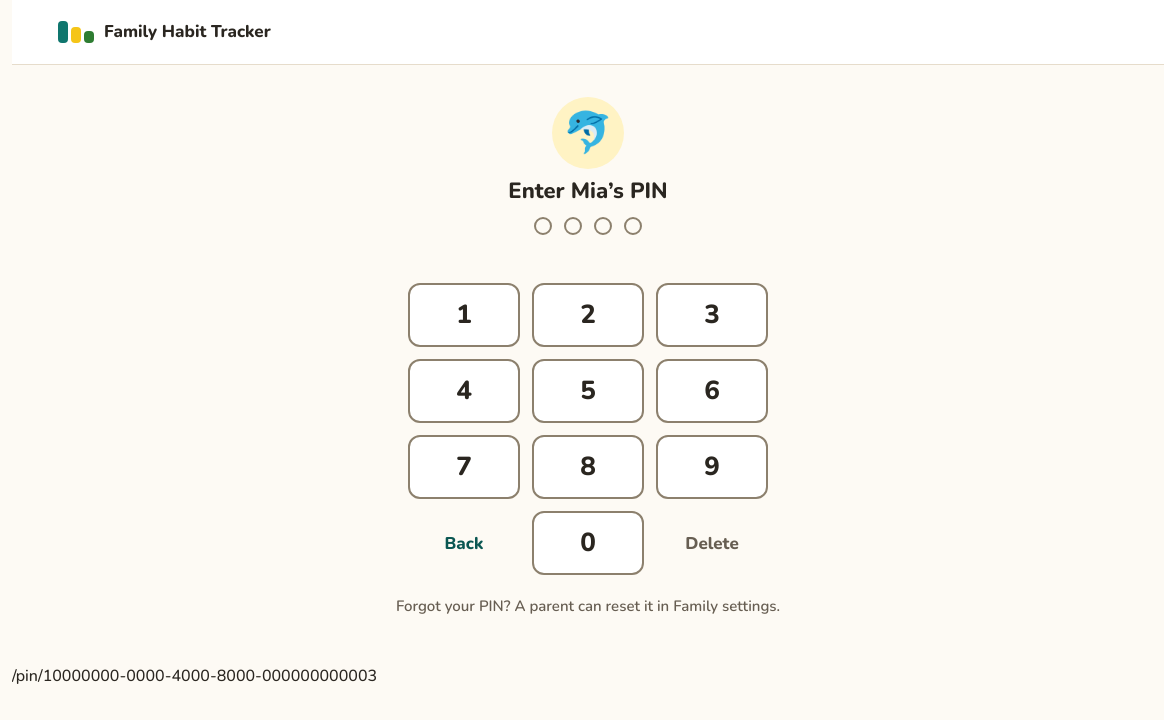
Test: REQ-003 PIN pad › a 401 MemberPIN clears the pad and says "Not quite — have another go"
Check: the heading "Enter Mia’s PIN" is shown, box left=508, top=177, right=668, bottom=205
Click the button "9" at (712, 467), box left=656, top=435, right=768, bottom=499
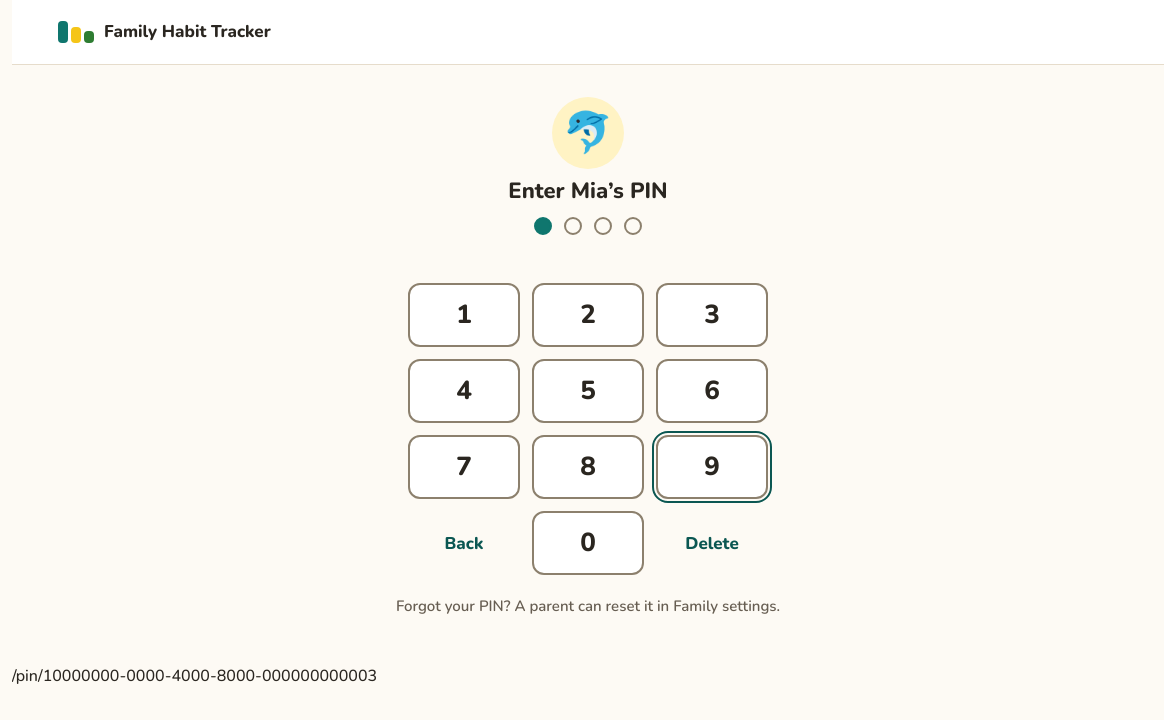
Click the button "9" at (712, 467), box left=656, top=435, right=768, bottom=499
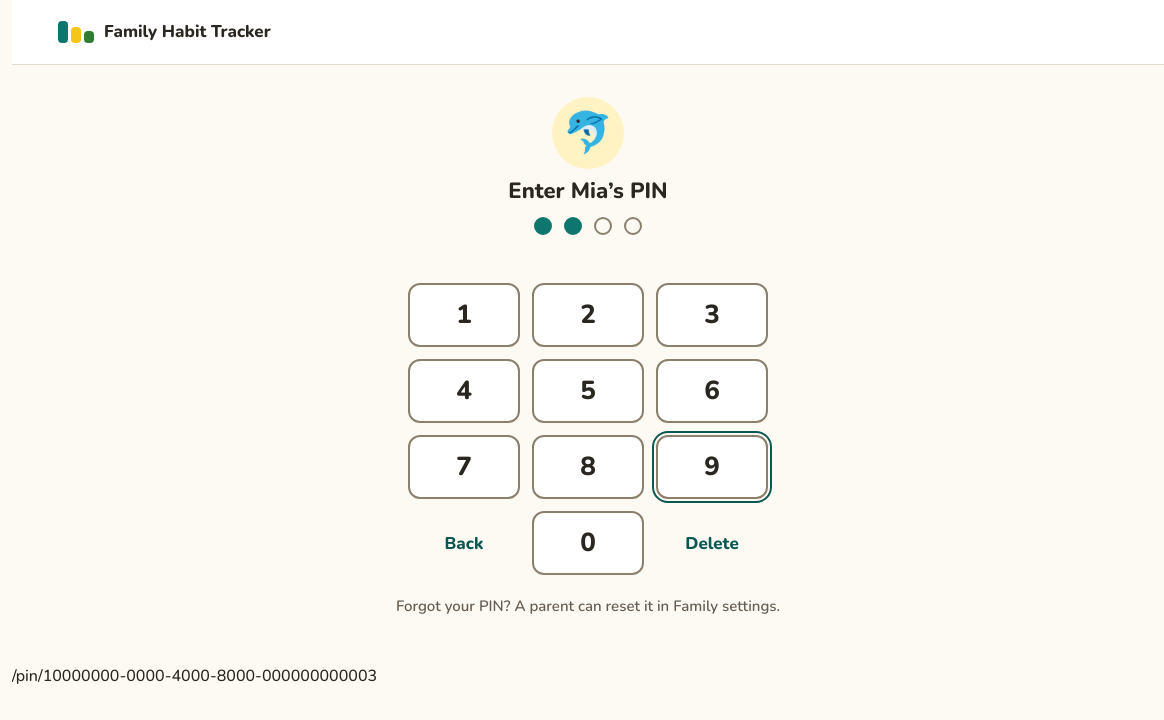
Click the button "9" at (712, 467), box left=656, top=435, right=768, bottom=499
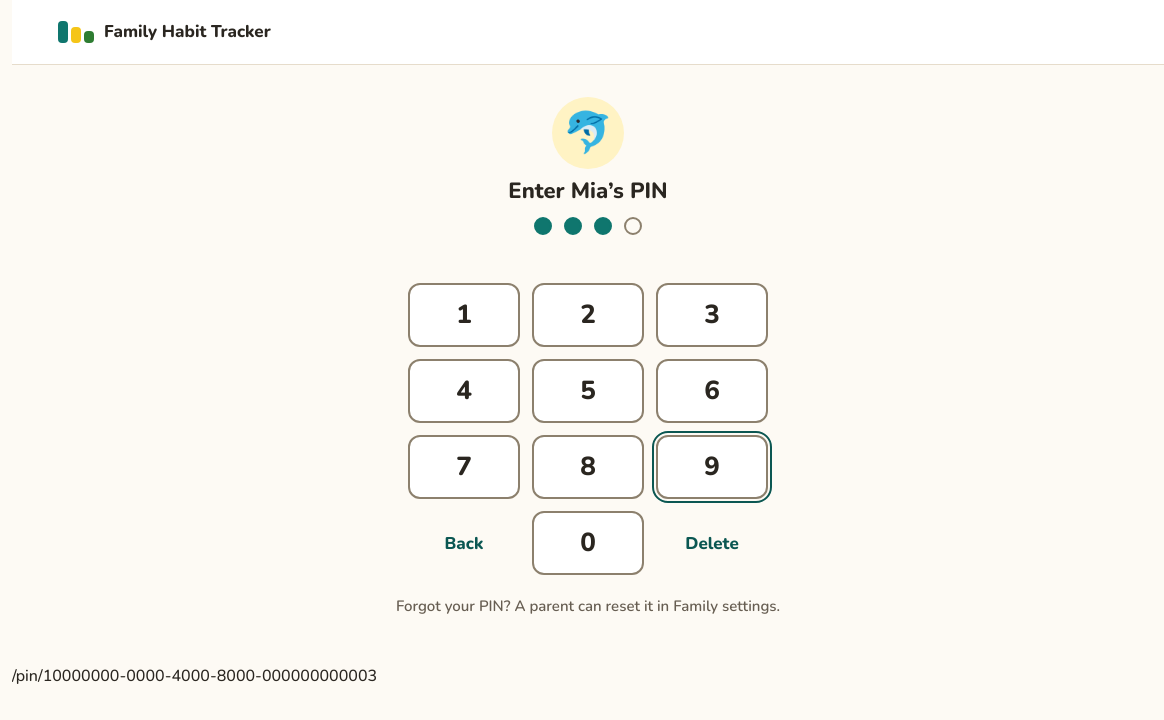
Click the button "9" at (712, 467), box left=656, top=435, right=768, bottom=499
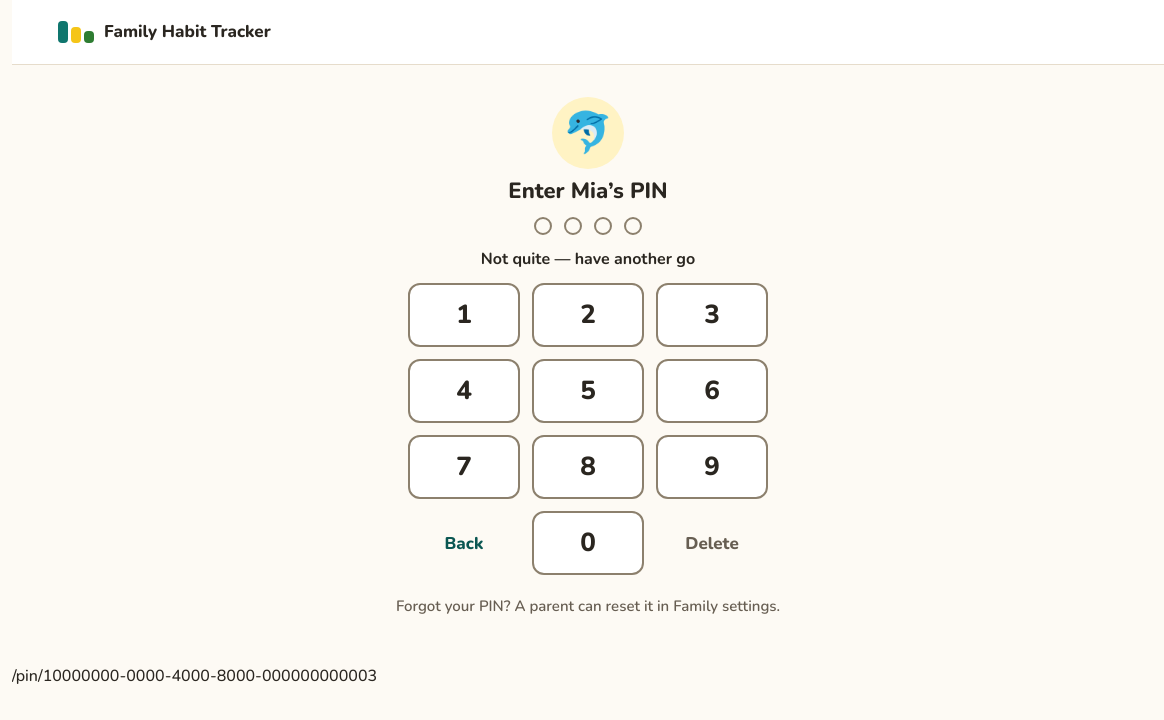
Check: the text "Not quite — have another go" is shown, box left=481, top=247, right=695, bottom=271
Click the button "1" at (464, 315), box left=408, top=283, right=520, bottom=347
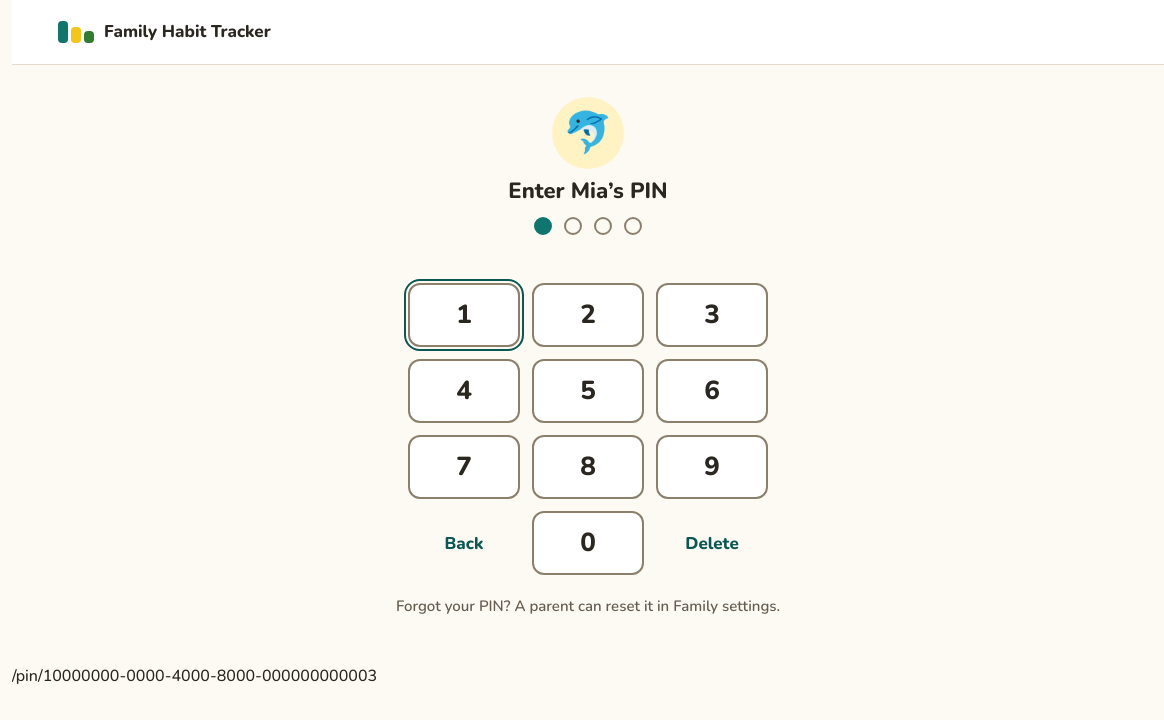
Check: the text "Not quite — have another go" is gone
